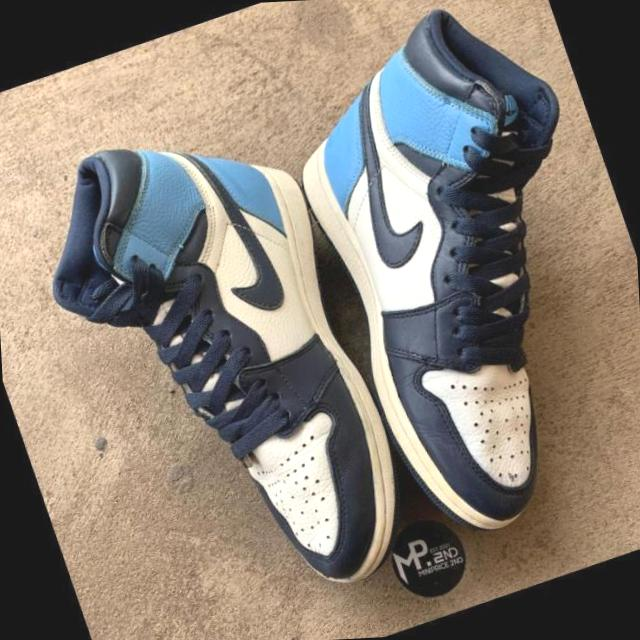nike_original_jordan: (11, 82, 433, 640), (251, 0, 640, 569)
